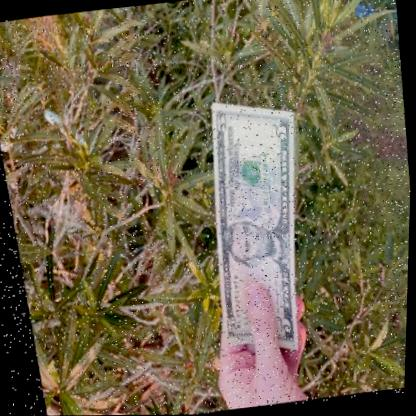five-front: (210, 102, 293, 351)
